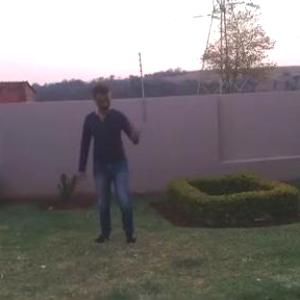takeoff-hand: (126, 113, 152, 146)
